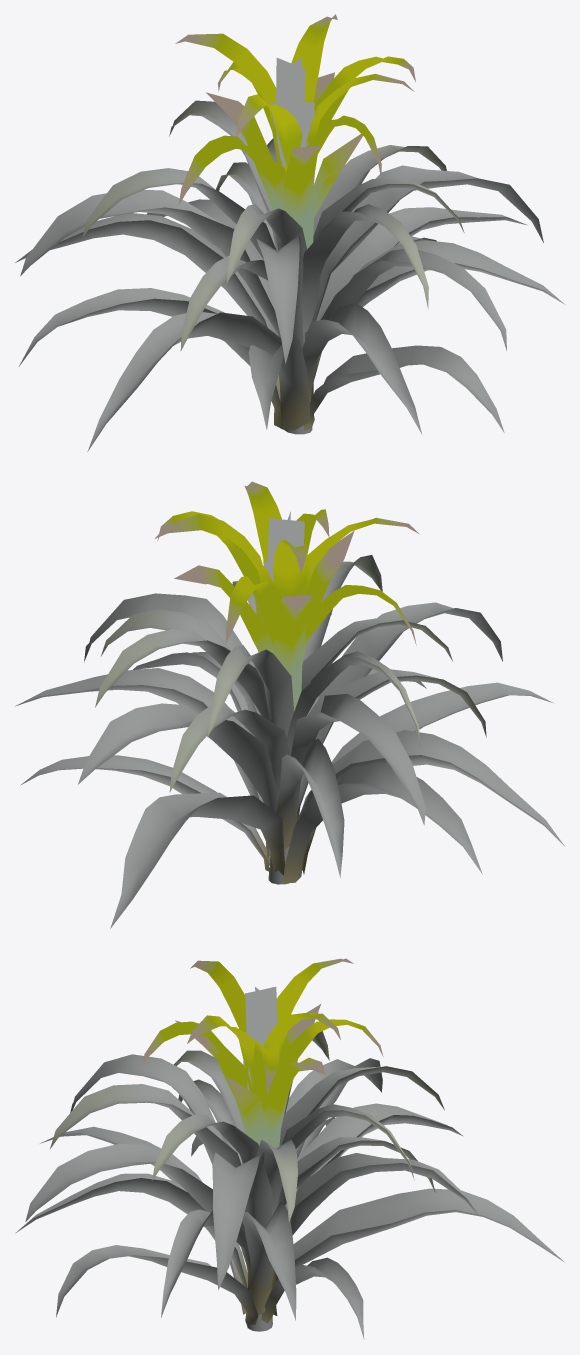
3 views of the same model, one above another, from view 1: azimuth 30°, elevation 25°; view 2: azimuth 150°, elevation 25°; view 3: azimuth 270°, elevation 25° (orthographic). The views are drawn at different scales.
Parts seen in each view (by area): view 1: G:\FFXIV-MapTools\exports\y6t1\bg\ex5\02_ykt_y6\twn\y6t1\bgp; view 2: G:\FFXIV-MapTools\exports\y6t1\bg\ex5\02_ykt_y6\twn\y6t1\bgp; view 3: G:\FFXIV-MapTools\exports\y6t1\bg\ex5\02_ykt_y6\twn\y6t1\bgp.
Part boxes in pixels (bbox=[...]): G:\FFXIV-MapTools\exports\y6t1\bg\ex5\02_ykt_y6\twn\y6t1\bgp: bbox=[15, 14, 564, 451]; G:\FFXIV-MapTools\exports\y6t1\bg\ex5\02_ykt_y6\twn\y6t1\bgp: bbox=[15, 481, 564, 928]; G:\FFXIV-MapTools\exports\y6t1\bg\ex5\02_ykt_y6\twn\y6t1\bgp: bbox=[15, 958, 564, 1339].
Size of the model in its own units: 5.48 by 3.98 by 5.78.
